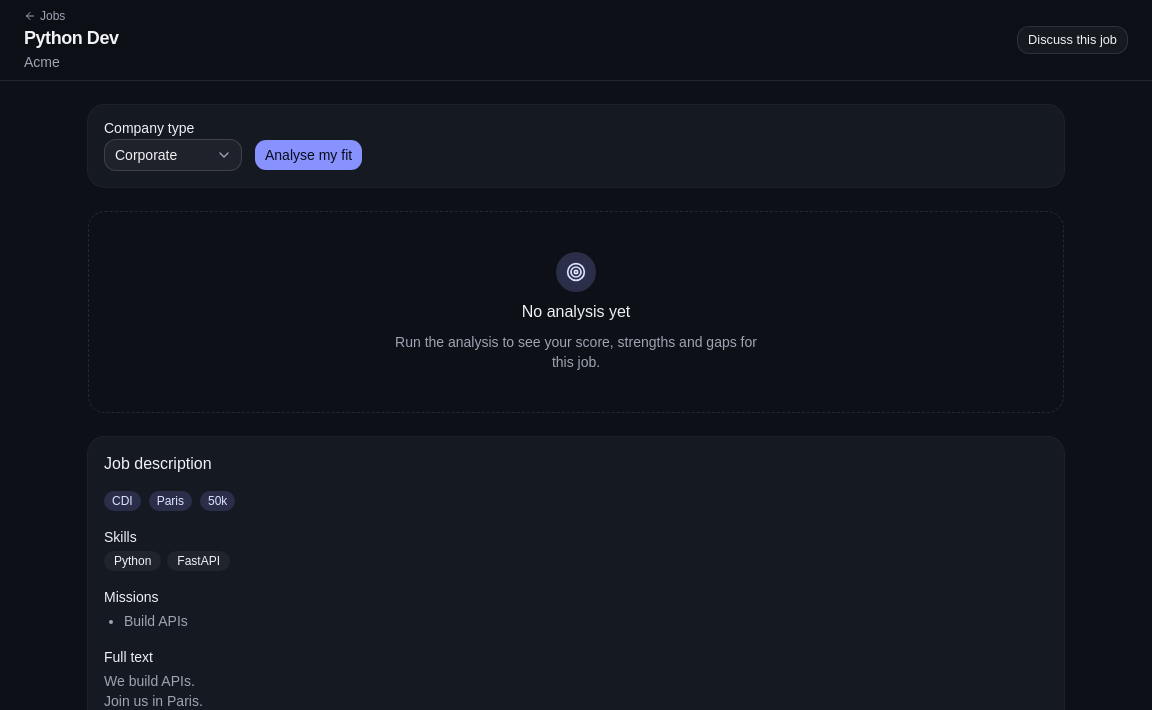
Scenario: no analysis yet → run it for the chosen company type → report is shown; errors are safe
Expected: the text "No analysis yet" is shown, left=522, top=300, right=630, bottom=324
Select "Startup" in the dropdown labelled "Company type" at (173, 155), box left=104, top=139, right=242, bottom=171
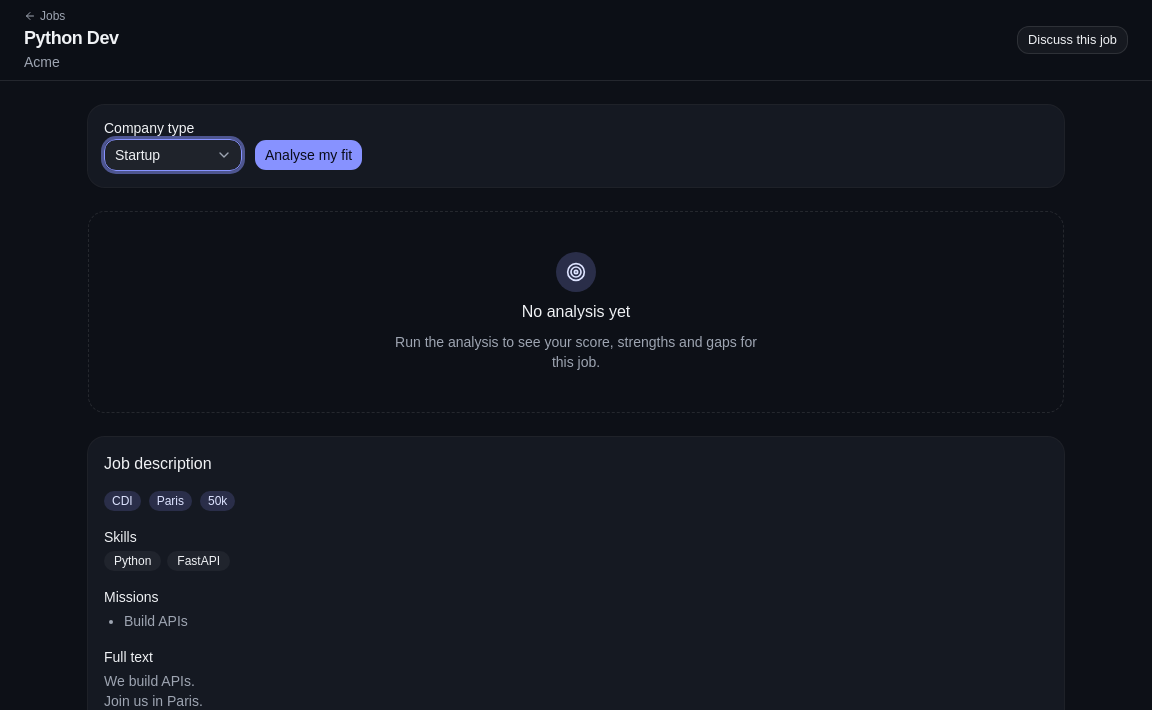
Click the button "Analyse my fit" at (309, 155), box left=254, top=139, right=363, bottom=171
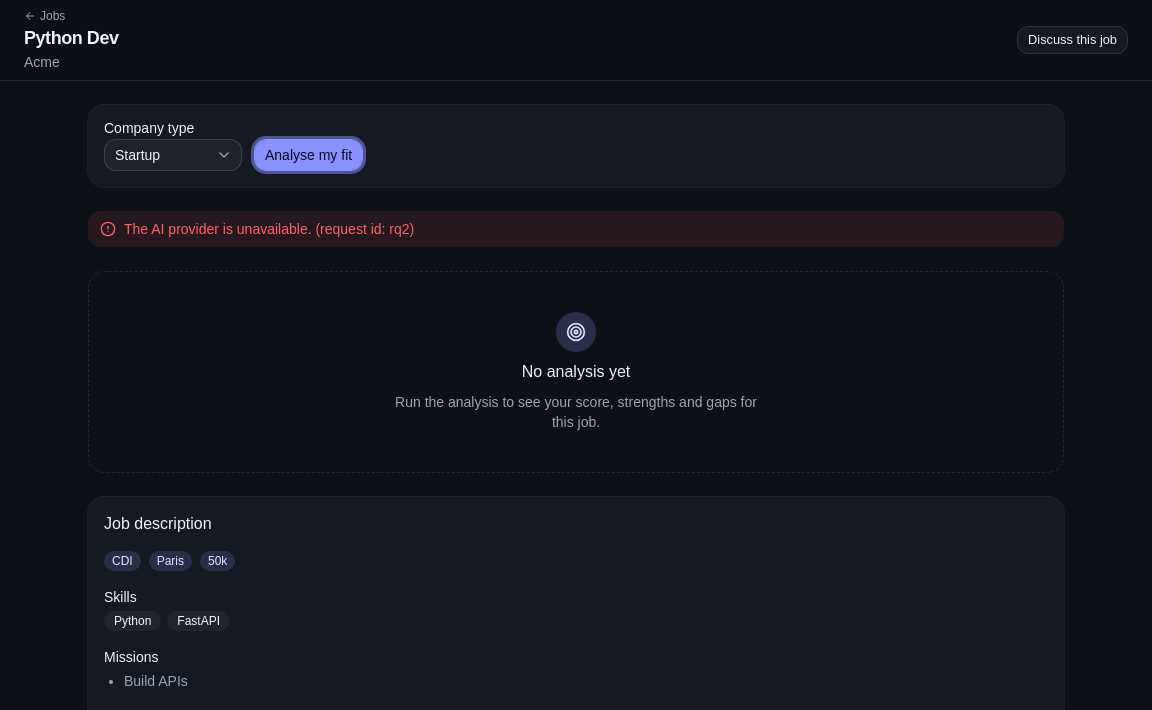
Now the text "The AI provider is unavailable. (request id: rq2)" is shown, box left=88, top=211, right=1064, bottom=247
Click the button "Analyse my fit" at (309, 155), box left=254, top=139, right=363, bottom=171
(page scrolled)
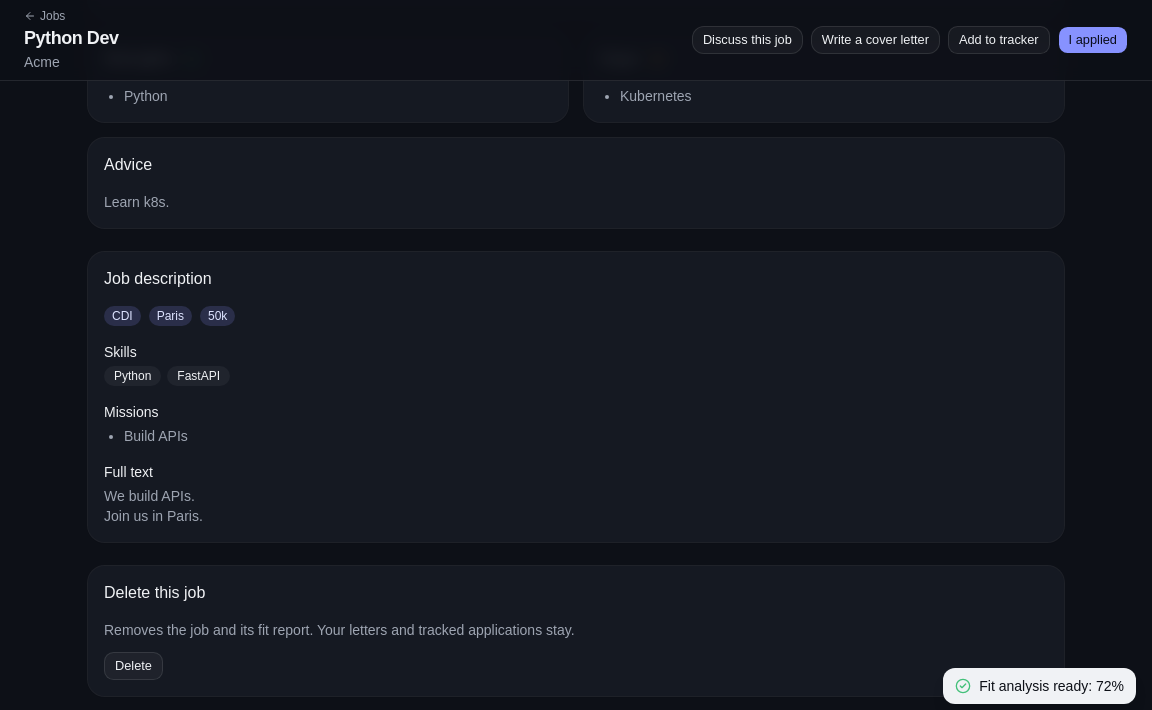
Expected: the text "Job description" is shown, left=104, top=270, right=212, bottom=287
Now the list item "Kubernetes" is shown, box left=620, top=88, right=692, bottom=104
